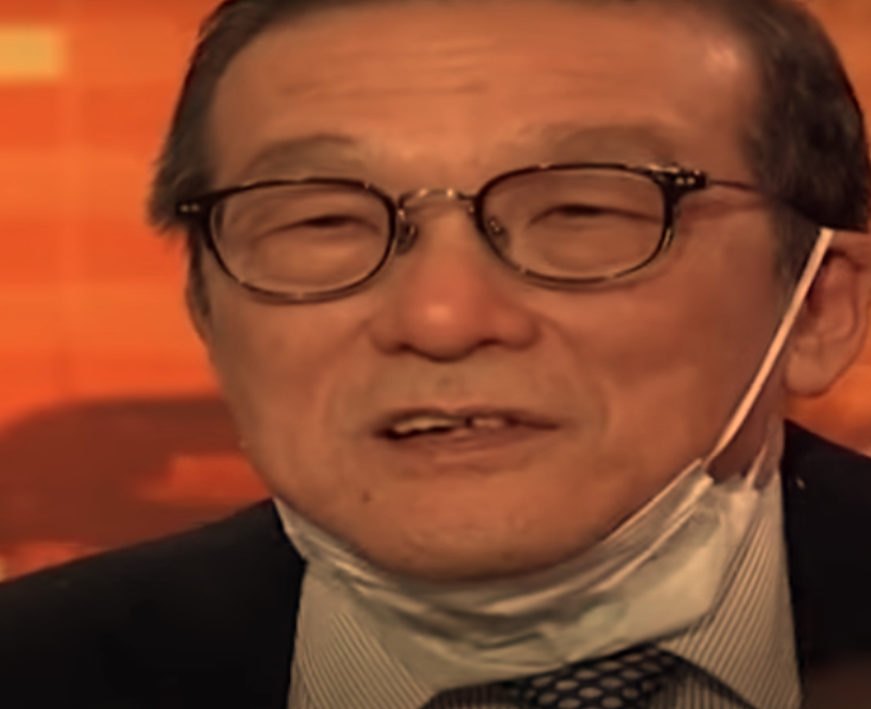mask_weared_incorrect: (152, 6, 870, 695)
